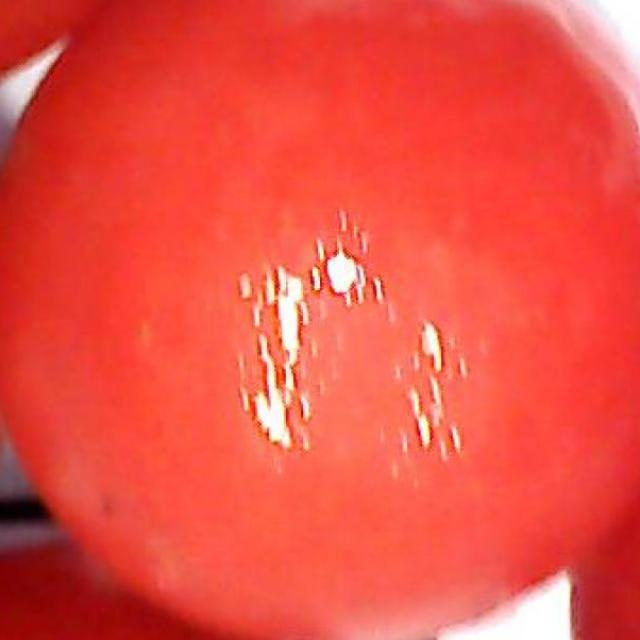Healthy: (3, 0, 640, 629)
